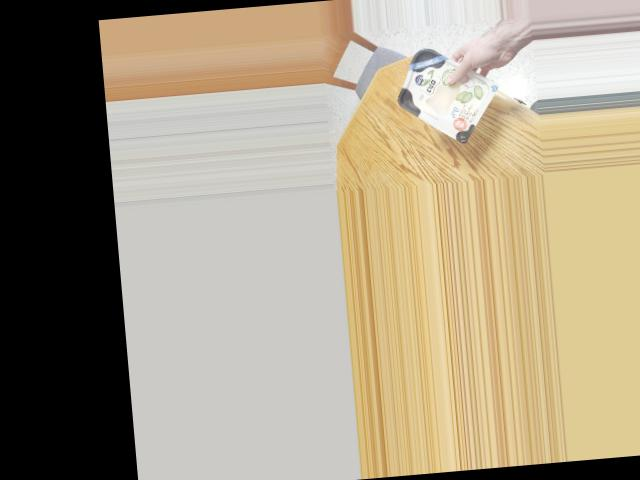cheese: (397, 38, 486, 142)
